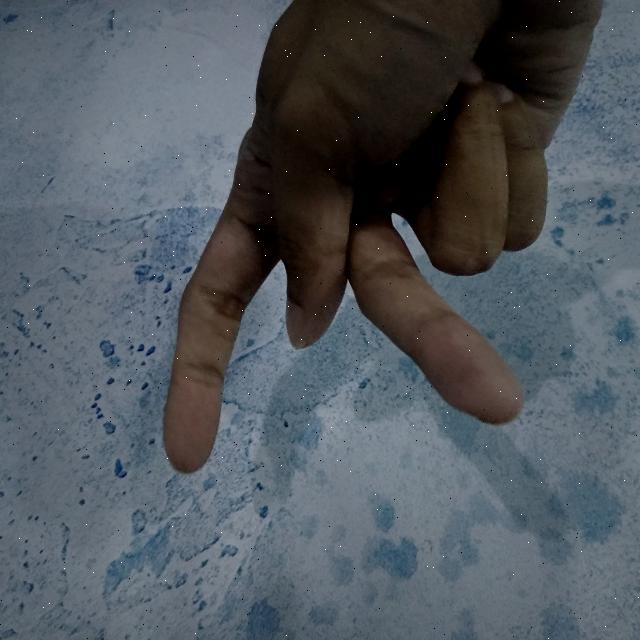P: (158, 0, 609, 478)
